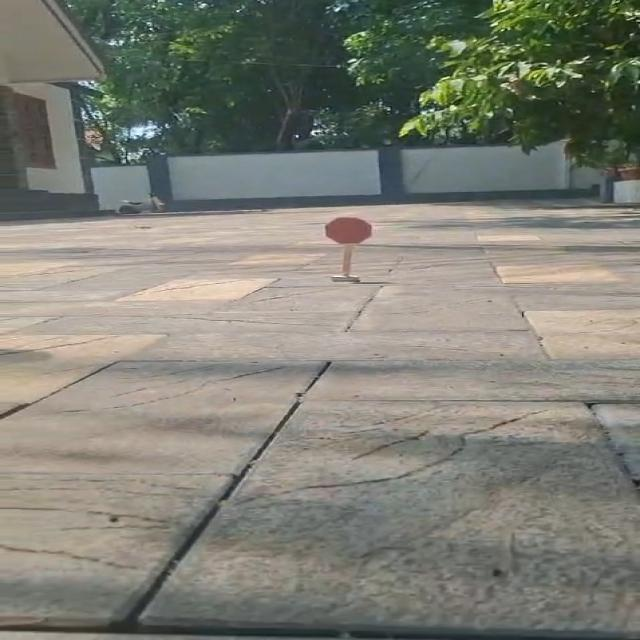Stop: (316, 213, 381, 252)
